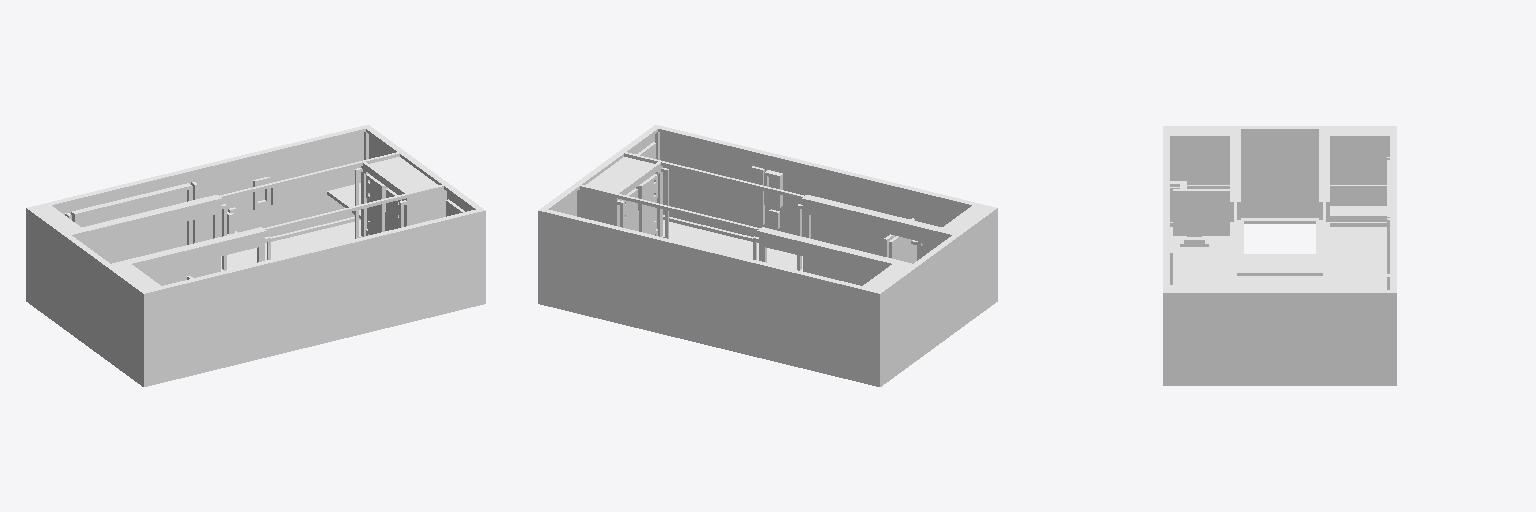
The model's file is SC_SpaceShip.obj.
3 views of the same model, side by side, from view 1: azimuth 30°, elevation 25°; view 2: azimuth 150°, elevation 25°; view 3: azimuth 270°, elevation 25° (orthographic).
Size of the model in its own units: 111 by 29 by 66.